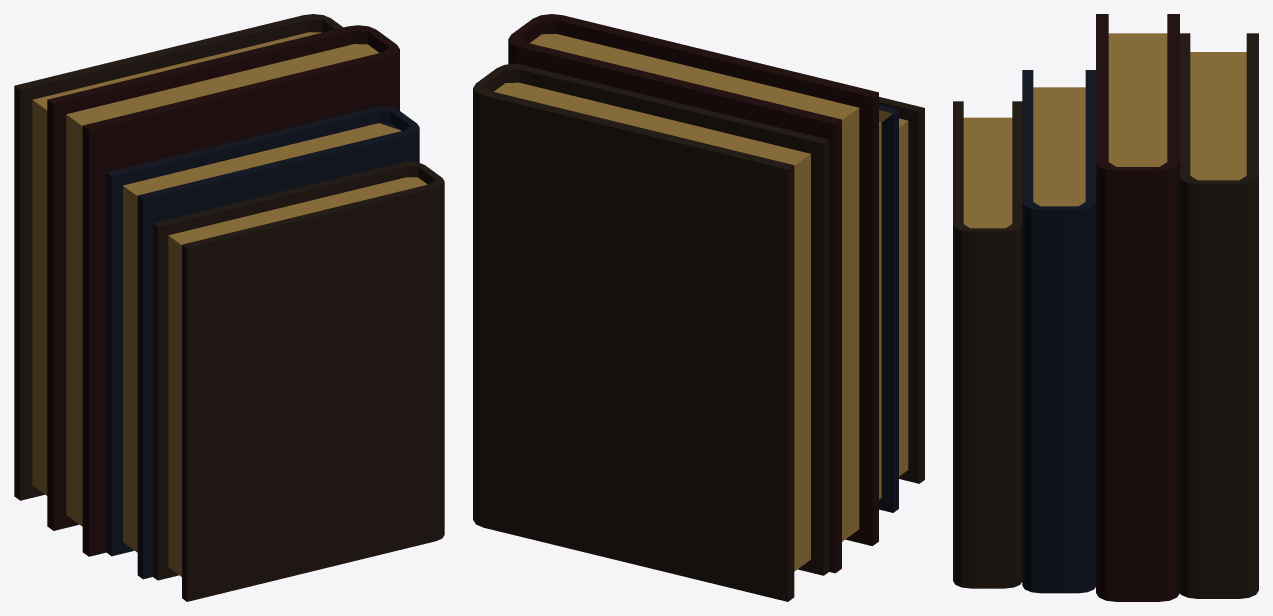
Rendered from Book2.fbx.
3 views of the same model, side by side, from view 1: azimuth 30°, elevation 25°; view 2: azimuth 150°, elevation 25°; view 3: azimuth 270°, elevation 25° (orthographic). The views are drawn at different scales.
Parts seen in each view (by area): view 1: Bookstack; view 2: Bookstack; view 3: Bookstack.
Boxes of the visible parts, left/top/right/bottom form: Bookstack: left=14, top=14, right=444, bottom=601; Bookstack: left=473, top=14, right=924, bottom=601; Bookstack: left=953, top=14, right=1258, bottom=601.
Size of the model in its own units: 26.81 by 34.32 by 22.06.
